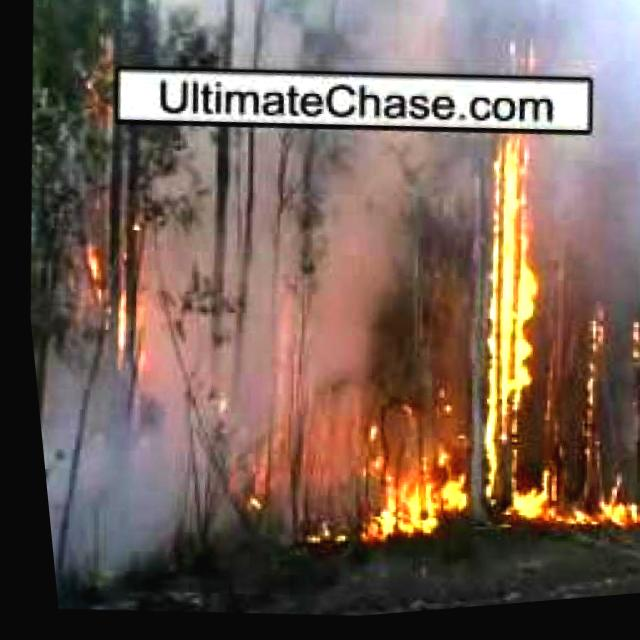Fire: (449, 130, 551, 498), (326, 417, 469, 547), (53, 224, 164, 384), (505, 488, 640, 550), (557, 318, 613, 464), (60, 30, 131, 136), (611, 333, 640, 398)
Smoke: (9, 90, 496, 621)
